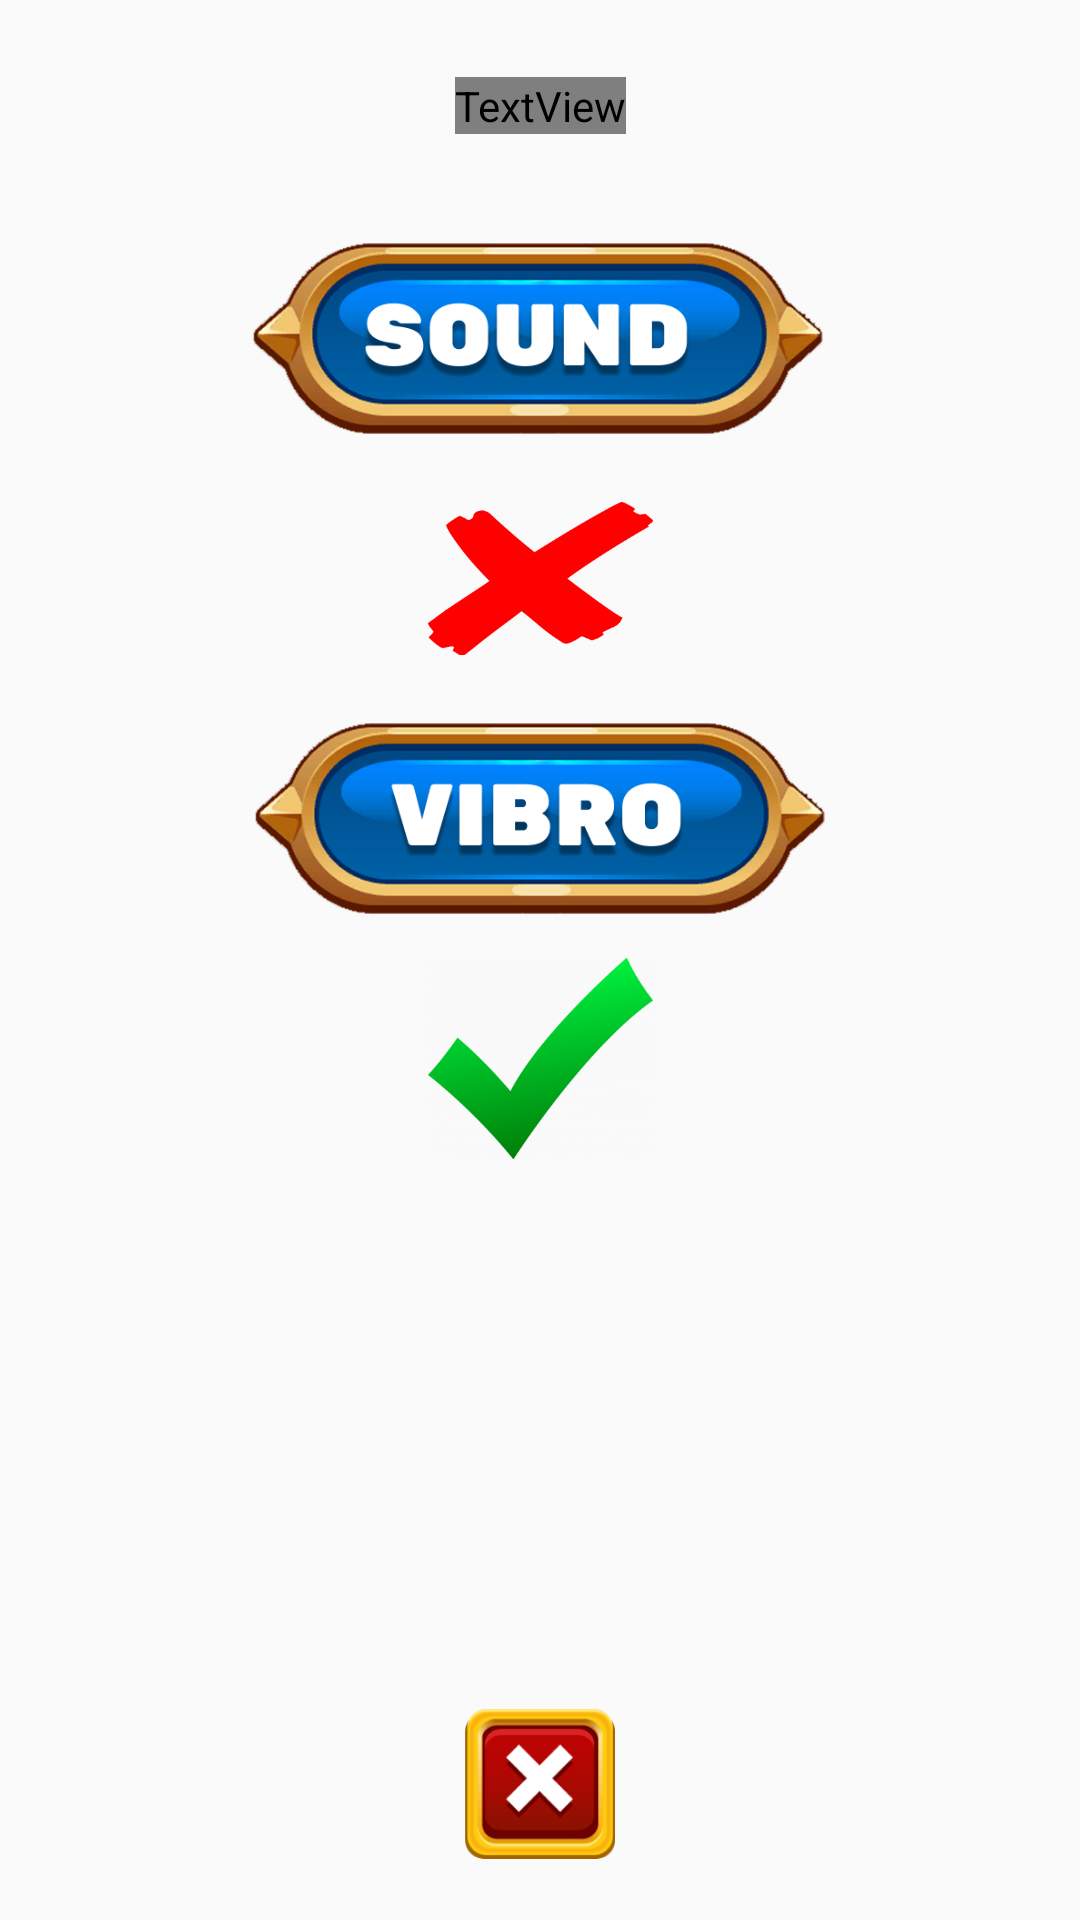

Icon click points for this 1080x1920 phone screenshot, format (x,y):
close: (540,1784)
